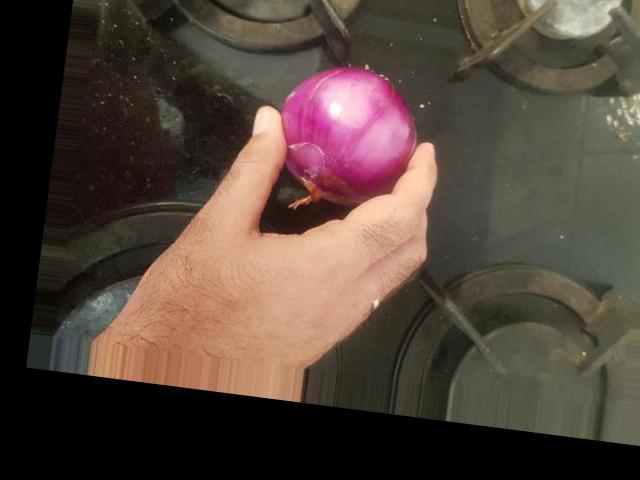onion: (405, 11, 535, 154)
